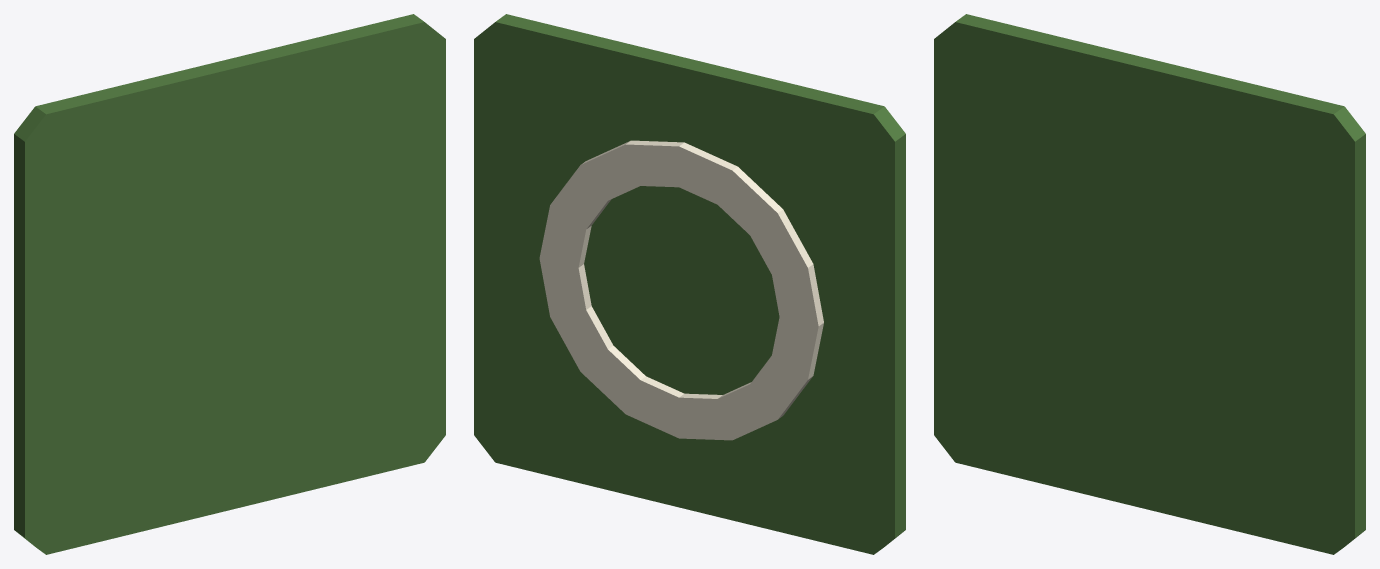
Rendered from lwf_portaloo_indicator_free_v1.glb.
The picture shows the model from 3 angles, left to right: view 1: azimuth 30°, elevation 25°; view 2: azimuth 150°, elevation 25°; view 3: azimuth 330°, elevation 25°; orthographic projection.
Visible parts, largest first — view 1: IndicatorFree; view 2: IndicatorFree; view 3: IndicatorFree.
Part boxes in pixels (x1=…): IndicatorFree: x1=14, y1=14, x2=445, y2=554; IndicatorFree: x1=474, y1=14, x2=905, y2=554; IndicatorFree: x1=934, y1=14, x2=1365, y2=554.
Bounding box in the file's own units: 0.178 × 0.178 × 0.012.
1 material, 1 textured.
